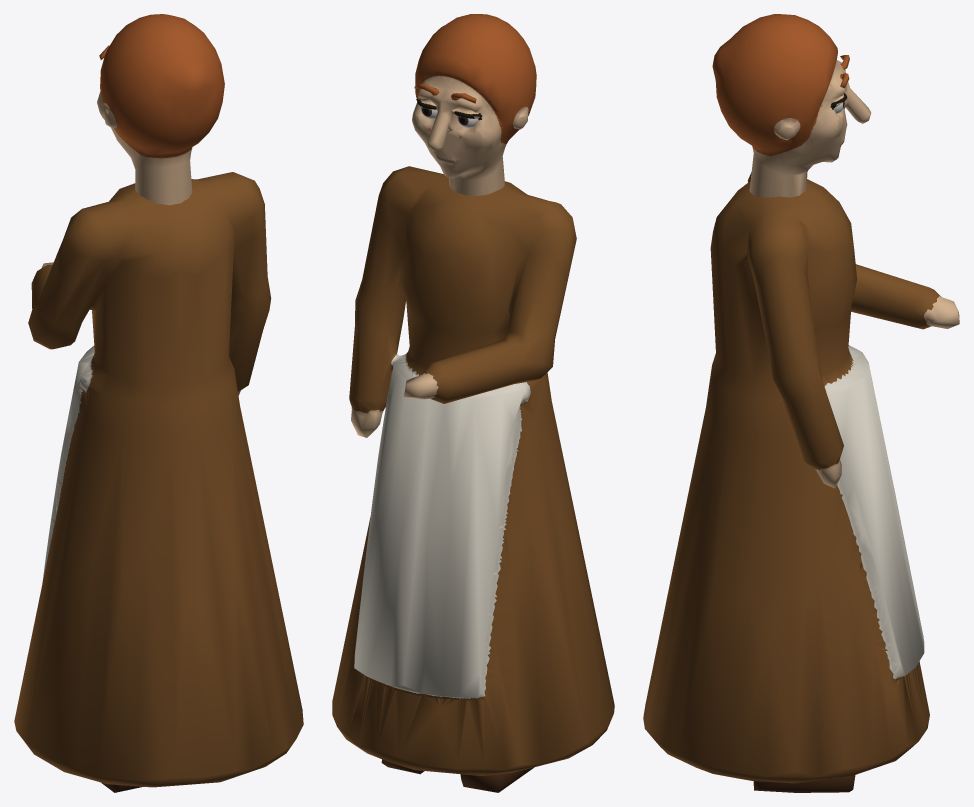
File: woman-c.glb
3 views of the same model, side by side, from view 1: azimuth 30°, elevation 25°; view 2: azimuth 150°, elevation 25°; view 3: azimuth 270°, elevation 25° (orthographic). The views are drawn at different scales.
Parts seen in each view (by area): view 1: body_lod0, head_lod0; view 2: body_lod0, head_lod0; view 3: body_lod0, head_lod0.
Boxes of the visible parts, x1,y1,x2,y2 form: body_lod0: [14, 172, 303, 792]; head_lod0: [97, 14, 224, 205]; body_lod0: [332, 166, 614, 792]; head_lod0: [412, 14, 536, 195]; body_lod0: [643, 172, 959, 792]; head_lod0: [712, 14, 871, 197].
Size of what is drawn, in the model's own units: 0.6574 by 1.91 by 0.7296.
